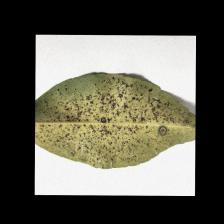canker: (55, 90, 138, 152)
